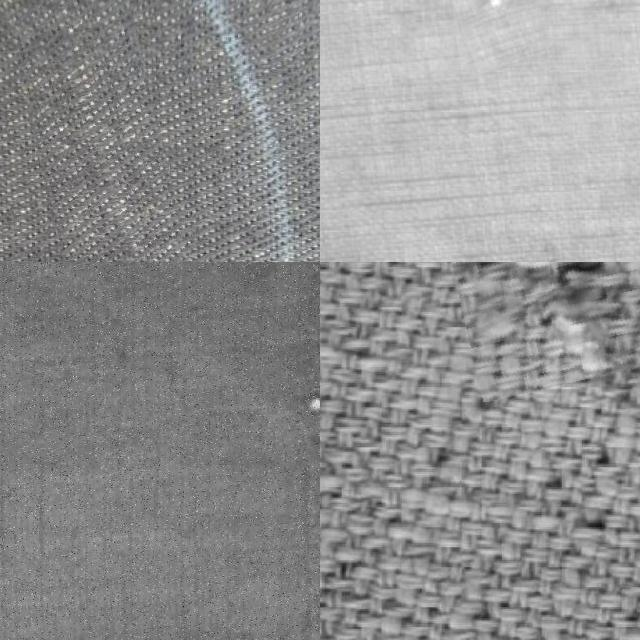Thread_other: (34, 0, 228, 262)
seam: (445, 262, 640, 393), (259, 338, 320, 468), (443, 0, 543, 73)
